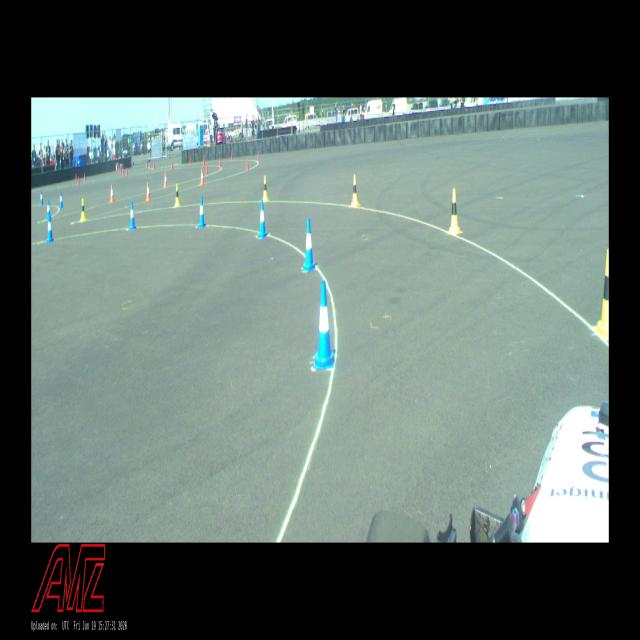blue_cone: (314, 280, 335, 369), (302, 218, 316, 272), (258, 200, 268, 238), (198, 196, 206, 228), (129, 201, 136, 230), (46, 216, 54, 241), (46, 200, 52, 220), (60, 191, 64, 208), (40, 191, 44, 205)
orange_cone: (146, 182, 151, 201), (110, 185, 114, 202), (200, 168, 204, 184), (164, 172, 168, 188)
yellow_cone: (597, 249, 609, 340), (448, 188, 462, 234), (352, 175, 361, 206), (262, 176, 268, 200), (80, 198, 86, 221), (175, 184, 180, 207)
